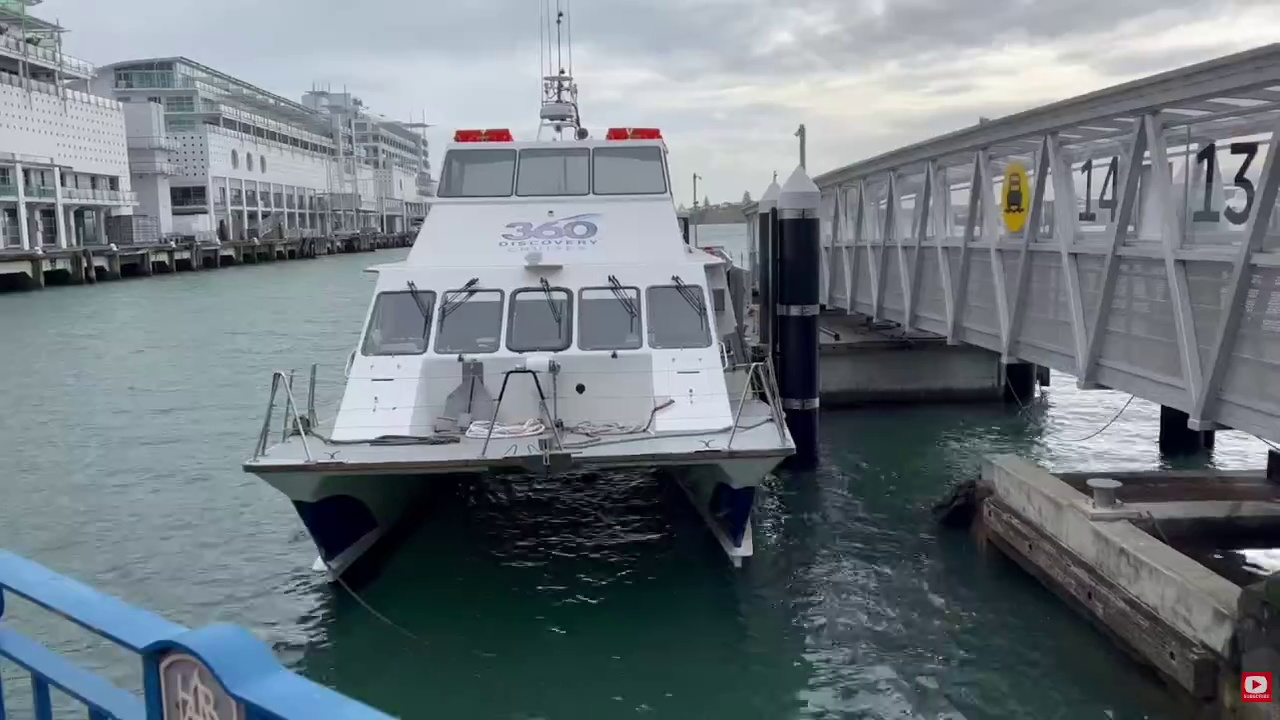ferry: (244, 70, 799, 598)
